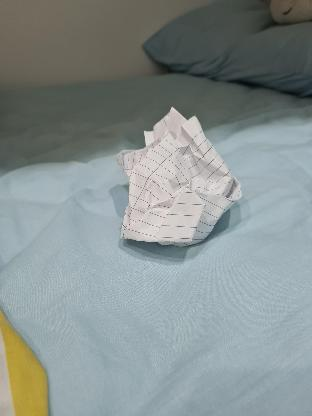Paper: (114, 112, 238, 247)
